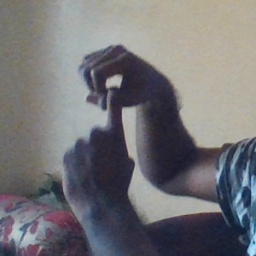Q: (56, 43, 161, 200)
